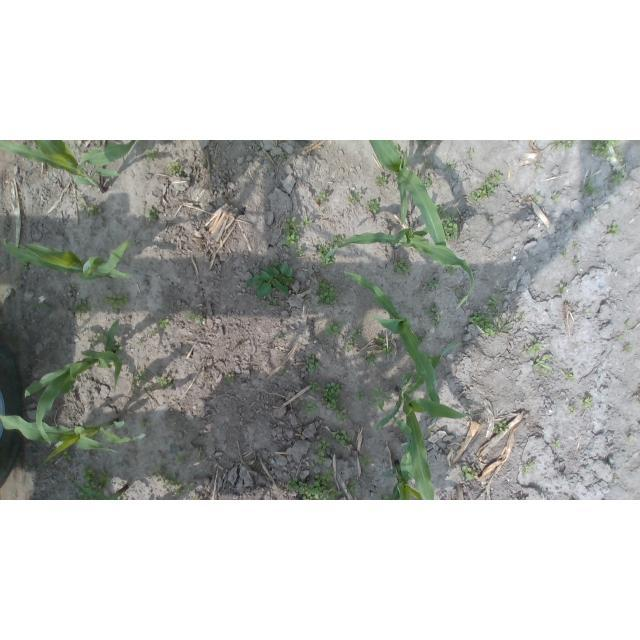Maize: (374, 340, 482, 500), (339, 268, 441, 436), (320, 226, 477, 310), (23, 319, 121, 446), (369, 140, 451, 273), (0, 413, 148, 467), (1, 140, 138, 194), (2, 235, 141, 281), (379, 445, 422, 500), (65, 471, 128, 500)
Weeds: (248, 260, 296, 302), (285, 469, 343, 500), (152, 464, 195, 498), (466, 311, 511, 337), (469, 171, 503, 203), (433, 206, 461, 243), (81, 466, 111, 494), (586, 140, 620, 161), (316, 279, 340, 307), (322, 381, 343, 409), (369, 388, 393, 412), (312, 437, 332, 465), (485, 289, 509, 312), (102, 291, 130, 310), (531, 353, 554, 376), (283, 218, 301, 247), (317, 243, 337, 268), (77, 197, 101, 217), (425, 302, 442, 328), (72, 298, 93, 318), (393, 259, 414, 279), (520, 338, 544, 354), (375, 336, 394, 355), (580, 180, 601, 197), (332, 431, 352, 446), (306, 354, 321, 374), (186, 310, 206, 324), (324, 322, 342, 337), (459, 465, 478, 479), (577, 396, 594, 411), (154, 376, 174, 388), (345, 480, 361, 495), (554, 140, 578, 150), (610, 170, 624, 187), (358, 454, 372, 471), (422, 278, 440, 291), (492, 422, 510, 435), (345, 192, 363, 205), (145, 206, 159, 222), (606, 220, 620, 236), (304, 400, 318, 416), (166, 160, 182, 174), (360, 353, 377, 366), (32, 301, 54, 311), (374, 173, 389, 187), (523, 461, 538, 475), (366, 199, 381, 213), (145, 149, 159, 163), (315, 191, 329, 205), (561, 370, 576, 382), (614, 146, 625, 162), (334, 409, 347, 422), (134, 370, 146, 384), (331, 234, 345, 246), (17, 258, 30, 270), (140, 416, 152, 429), (353, 388, 365, 401), (300, 216, 313, 228), (265, 297, 277, 309), (112, 343, 125, 354), (447, 265, 460, 276), (175, 451, 186, 463), (417, 333, 428, 345), (62, 450, 75, 460), (444, 161, 457, 171), (309, 381, 319, 393), (157, 318, 169, 328), (345, 338, 355, 350), (556, 284, 569, 293), (78, 492, 91, 501), (421, 177, 432, 187), (294, 246, 304, 257), (352, 329, 361, 341), (87, 337, 97, 347), (379, 490, 389, 500), (551, 439, 561, 449), (226, 374, 235, 385), (424, 157, 433, 168), (550, 193, 560, 202), (97, 332, 106, 342), (568, 405, 577, 415), (394, 145, 402, 156), (532, 193, 540, 203), (534, 162, 542, 172), (425, 353, 433, 363), (72, 281, 81, 289), (624, 320, 632, 329), (280, 369, 290, 376), (624, 344, 632, 352), (573, 258, 580, 266), (487, 216, 494, 224), (627, 434, 634, 442), (561, 249, 567, 258), (418, 140, 427, 146), (519, 314, 526, 321), (514, 497, 530, 500), (280, 151, 286, 159), (278, 333, 286, 339), (583, 310, 592, 315), (189, 496, 200, 500), (149, 331, 160, 335), (467, 149, 473, 156), (572, 242, 578, 248), (613, 477, 619, 483), (617, 334, 623, 340), (636, 394, 640, 402), (467, 404, 473, 409), (296, 290, 303, 294), (454, 286, 461, 290), (303, 301, 307, 305)
